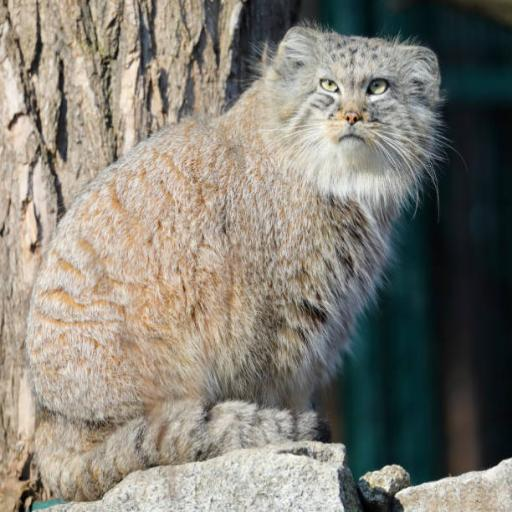manul: (26, 27, 439, 498)
